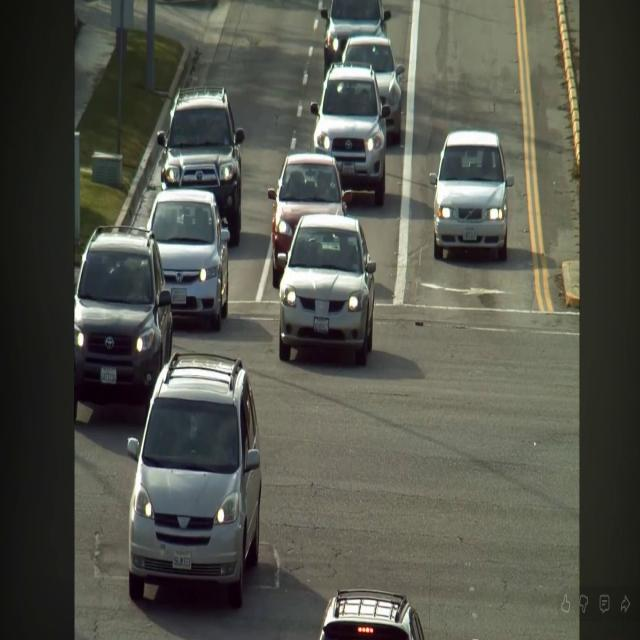car: (127, 352, 261, 607), (74, 226, 172, 420), (277, 215, 375, 366), (157, 87, 244, 247), (147, 190, 229, 331), (311, 64, 390, 207), (268, 153, 351, 288), (429, 130, 513, 261), (342, 36, 404, 144), (320, 0, 391, 74), (319, 590, 424, 639)
